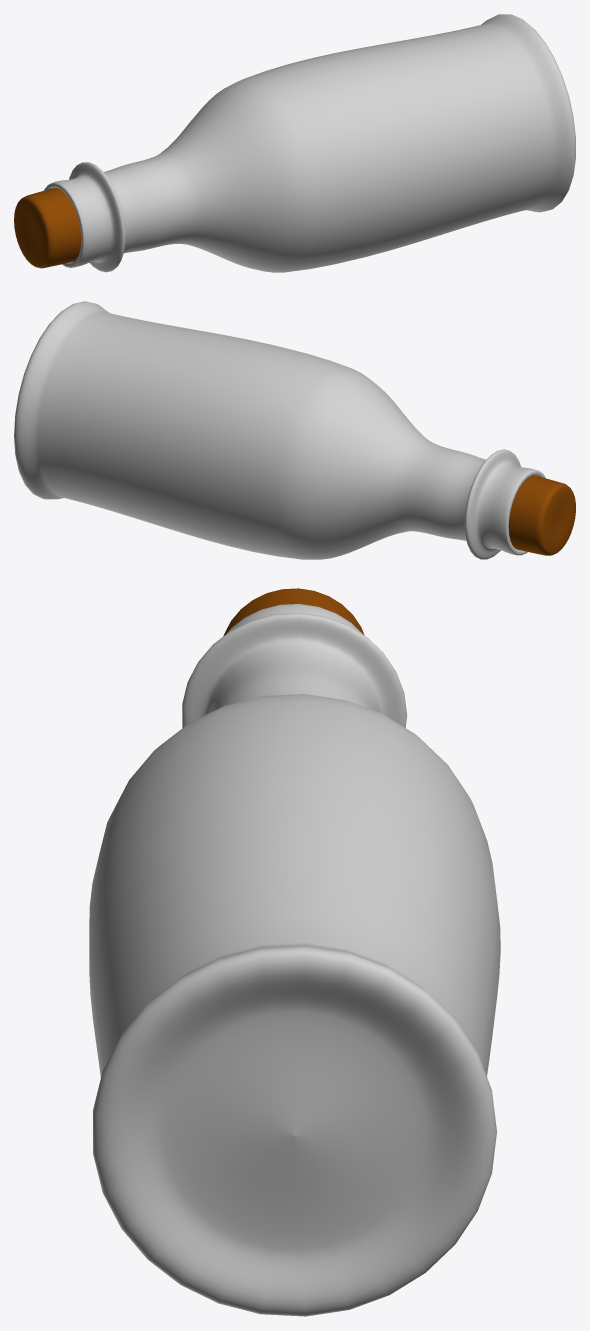
Rendered from flasche_01.dae.
3 renders of one model, top to bottom at view 1: azimuth 30°, elevation 25°; view 2: azimuth 150°, elevation 25°; view 3: azimuth 270°, elevation 25°, orthographic. The views are drawn at different scales.
Parts seen in each view (by area): view 1: Loft-NURBS.4; view 2: Loft-NURBS.4; view 3: Loft-NURBS.4.
Part boxes in pixels (box(x1,y1,x2,y2)): Loft-NURBS.4: box(14, 14, 575, 272); Loft-NURBS.4: box(14, 301, 575, 559); Loft-NURBS.4: box(89, 588, 500, 1316).
Size of the model in its own units: 1162 by 417 by 416.
